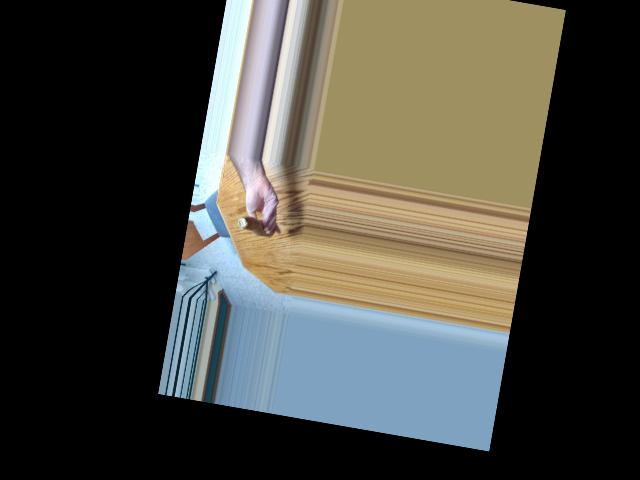sweet_potato: (240, 220, 276, 239)
